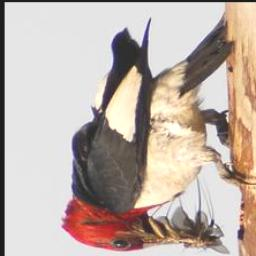Woodpecker: (62, 15, 256, 253)
